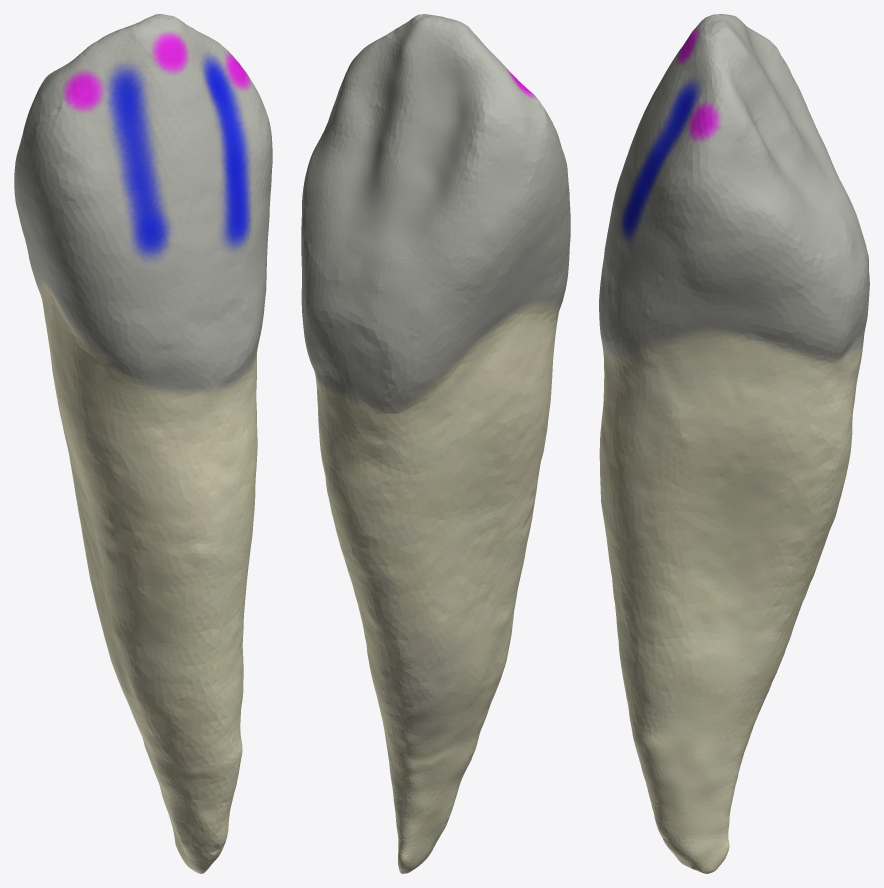
Rendered from 33 - canino inferior esquerdo - face vestibular.glb.
3 renders of one model, left to right at view 1: azimuth 30°, elevation 25°; view 2: azimuth 150°, elevation 25°; view 3: azimuth 270°, elevation 25°, orthographic. The views are drawn at different scales.
Visible parts, largest first — view 1: 3MFMeshParent_0; view 2: 3MFMeshParent_0; view 3: 3MFMeshParent_0.
Part boxes in pixels (x1,y1,x2,y2): 3MFMeshParent_0: (14, 14, 272, 873); 3MFMeshParent_0: (301, 14, 570, 873); 3MFMeshParent_0: (599, 14, 869, 873).
Bounding box in the file's own units: 0.1336 × 0.4787 × 0.1411.
Materials: 1 (1 with a texture image).
